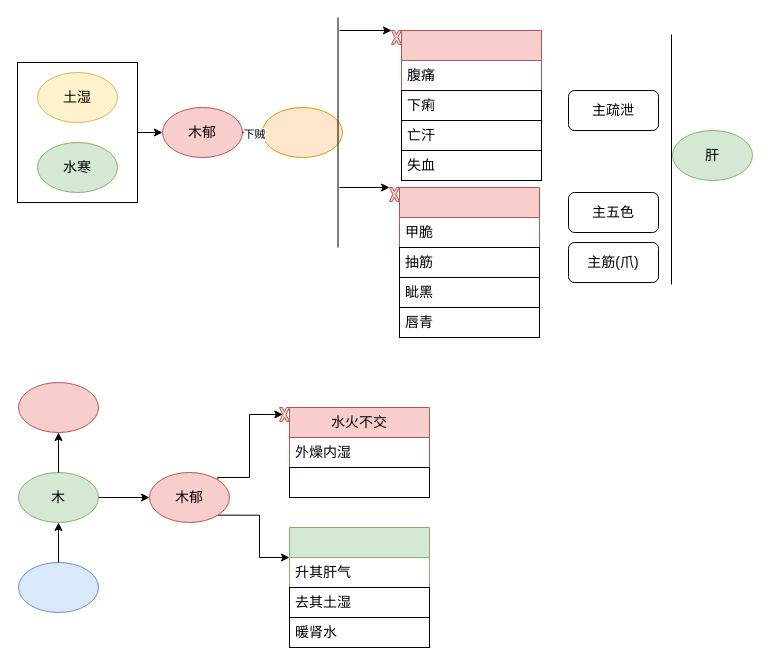
Image size: 770x665. Some labels were removed from this diagram. Each missing label, with the box of its shape:
下寒上热: (288, 466, 430, 498)
水(阴): (18, 562, 98, 612)
治则: (288, 526, 430, 648)
火(阳): (18, 382, 98, 432)
生疏泄: (400, 30, 542, 180)
脾土(风动): (262, 106, 342, 158)
血耗色枯: (398, 186, 540, 338)
